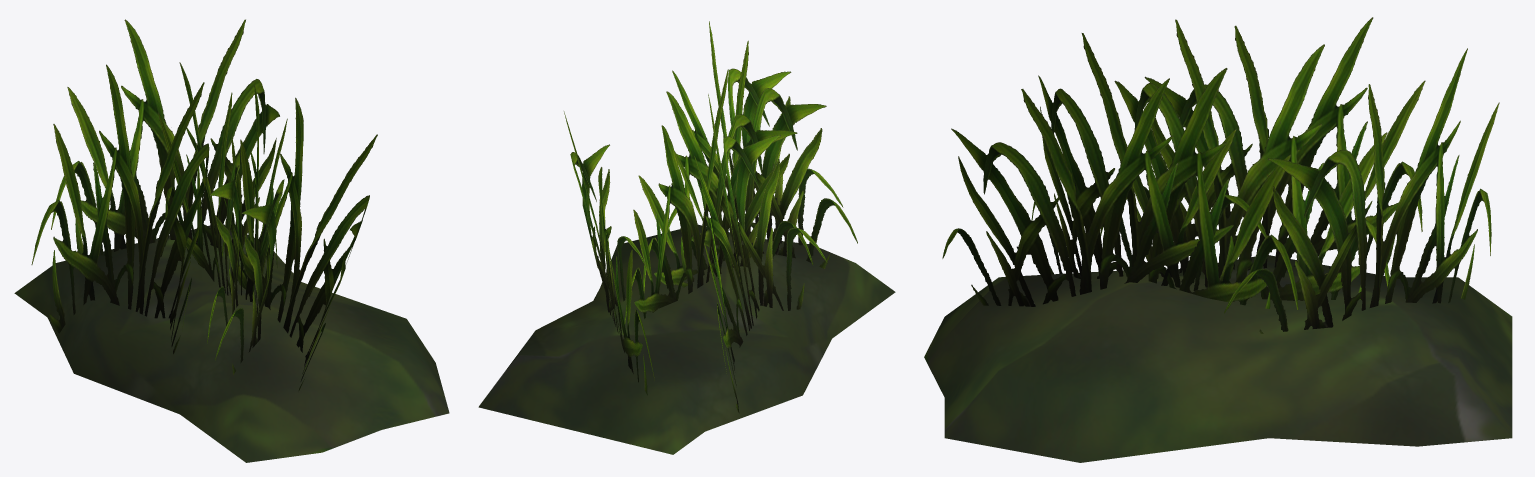
The model's file is grass_001.fbx.
The picture shows the model from 3 angles, left to right: view 1: azimuth 30°, elevation 25°; view 2: azimuth 150°, elevation 25°; view 3: azimuth 270°, elevation 25°; orthographic projection. The views are drawn at different scales.
Parts seen in each view (by area): view 1: pPlane33; view 2: pPlane33; view 3: pPlane33.
Part boxes in pixels (x1,y1,x2,y2): pPlane33: [14, 19, 449, 462]; pPlane33: [478, 21, 895, 454]; pPlane33: [924, 17, 1512, 462].
Size of the model in its own units: 227 by 241 by 338.
1 material, 1 textured.
